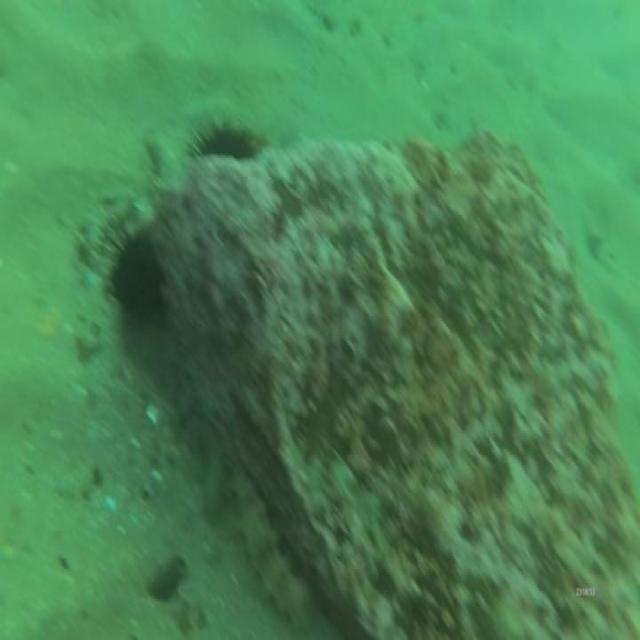echinus: (110, 225, 167, 327)
holothurian: (231, 461, 316, 629)
